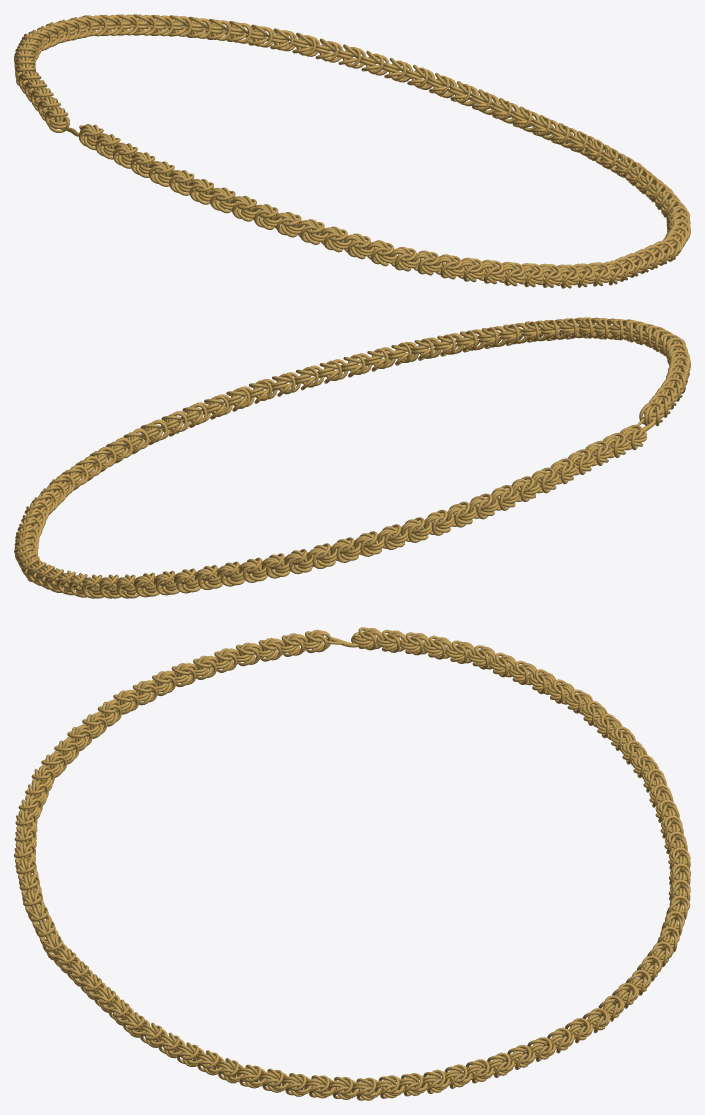
File: chainmail-necklace.glb
3 renders of one model, top to bottom at view 1: azimuth 30°, elevation 25°; view 2: azimuth 150°, elevation 25°; view 3: azimuth 270°, elevation 25°, orthographic. The views are drawn at different scales.
Visible parts, largest first — view 1: Necklace_M; view 2: Necklace_M; view 3: Necklace_M.
Part boxes in pixels (bbox=[...]): Necklace_M: bbox=[14, 14, 690, 288]; Necklace_M: bbox=[14, 317, 690, 598]; Necklace_M: bbox=[14, 627, 690, 1100].
Size of the model in its own units: 0.459 by 0.1561 by 0.4718.
Materials: 1 (1 with a texture image).
